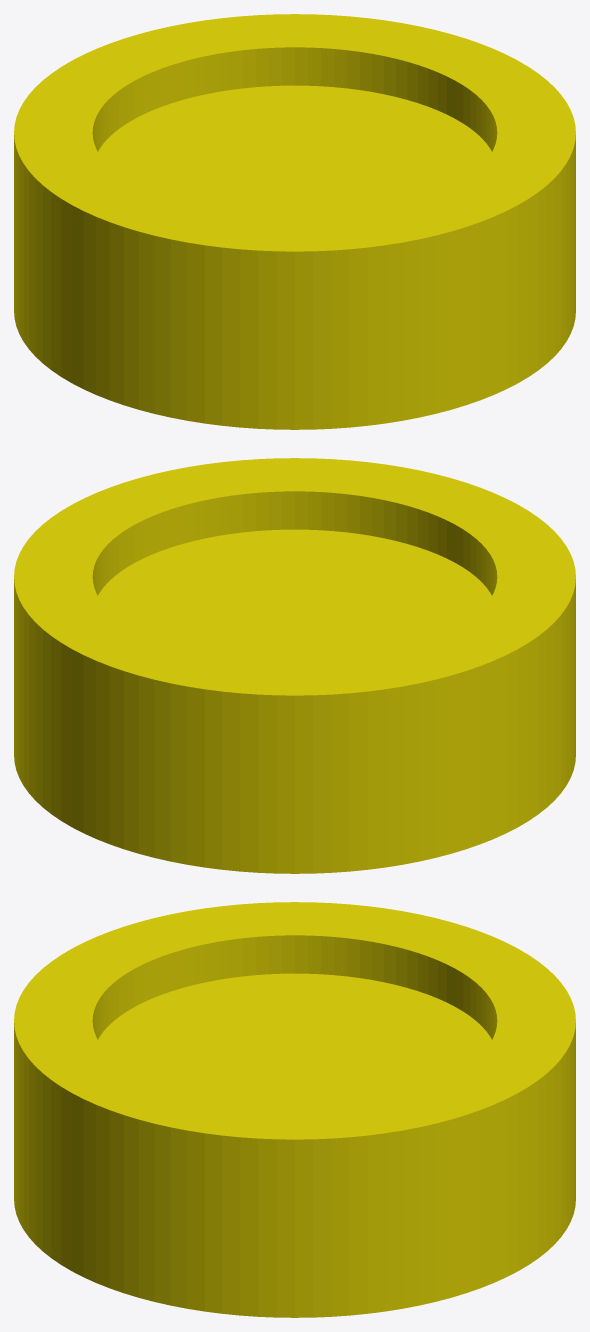
File: yellow_coin.fbx
3 views of the same model, one above another, from view 1: azimuth 30°, elevation 25°; view 2: azimuth 150°, elevation 25°; view 3: azimuth 270°, elevation 25° (orthographic).
Visible parts, largest first — view 1: 4gewinnt.017; view 2: 4gewinnt.017; view 3: 4gewinnt.017.
Part boxes in pixels (<box>): 4gewinnt.017: <box>14,14,575,429</box>; 4gewinnt.017: <box>14,458,575,873</box>; 4gewinnt.017: <box>14,902,575,1317</box>.
Bounding box in the file's own units: 1380 × 483 × 1380.
